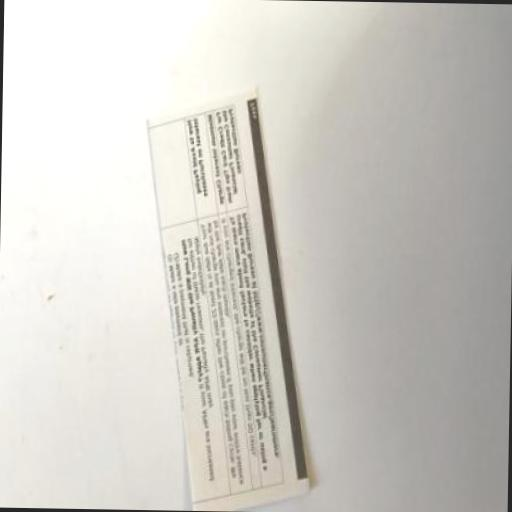paper: (140, 83, 317, 512)
